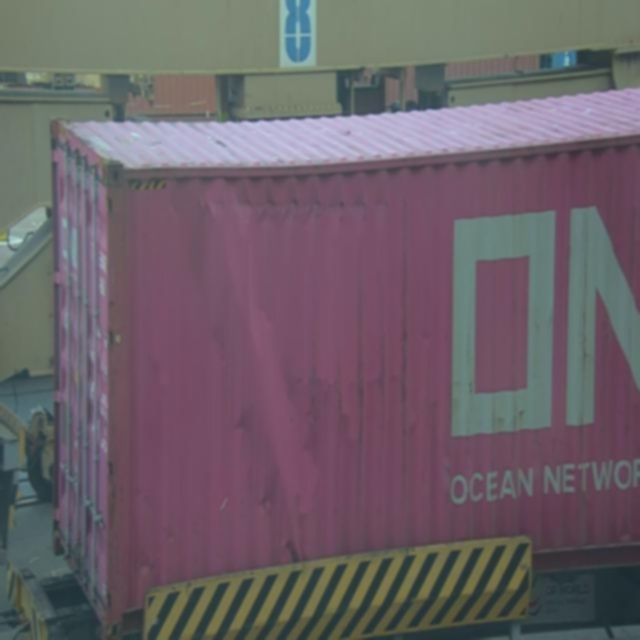Dent: (184, 198, 336, 558)
